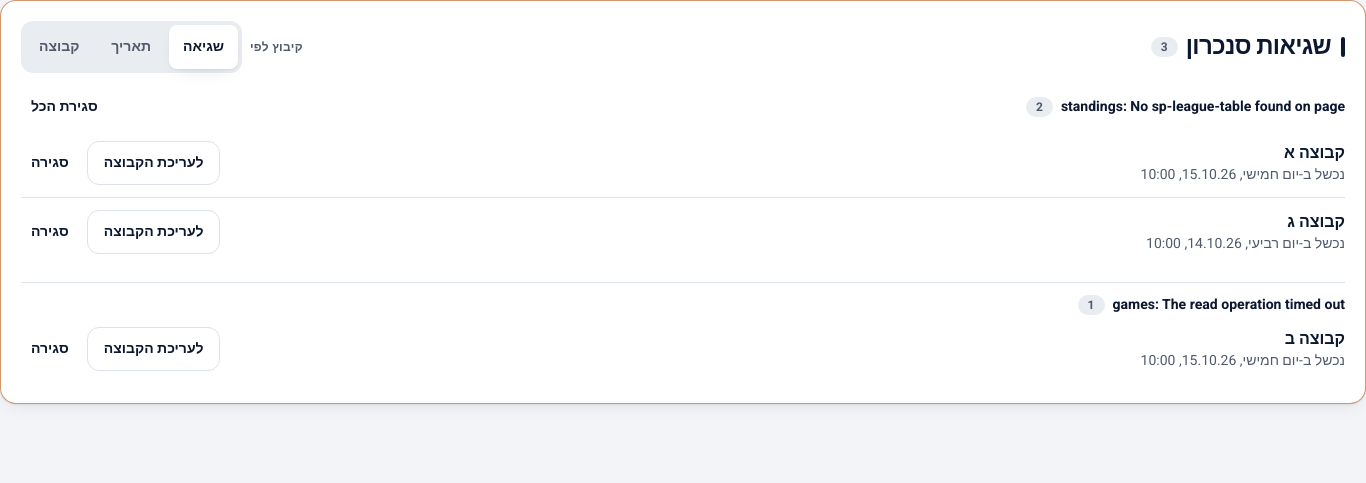
Scenario: SyncFailures › grouping › switching to date groups rows by calendar day
The width and height of the screenshot is (1366, 483).
Click the button with class "segmented-item" showing "תאריך" at (131, 47), box [97,25,165,69]
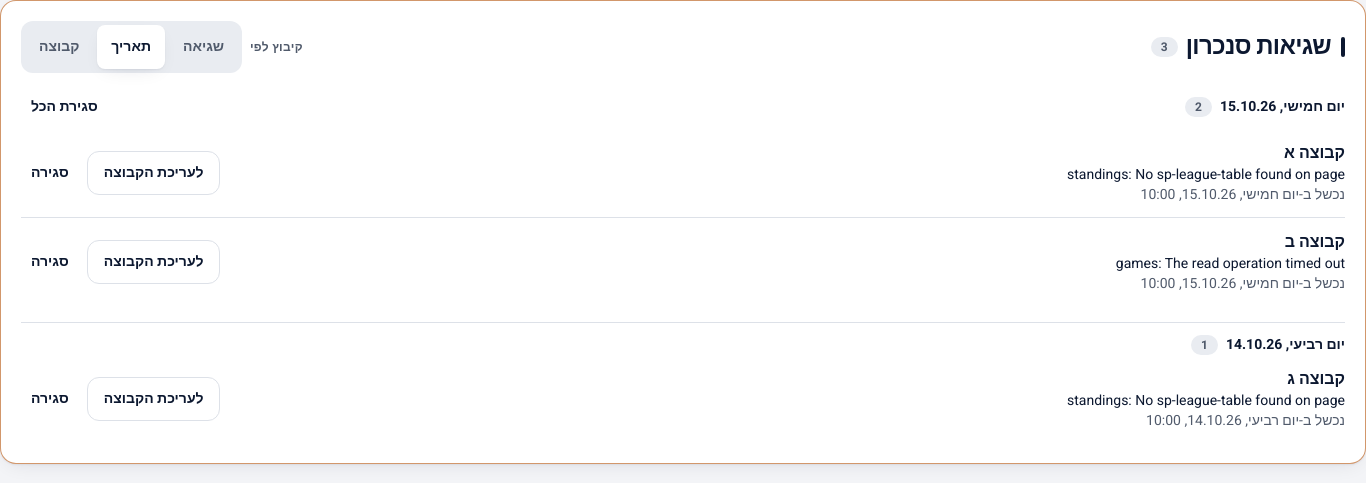
Result: the element with test id "failure-group" shows "קבוצה ב" at [1285,230,1345,254]
Result: the element with test id "failure-group" shows "קבוצה ג" at [1287,367,1345,391]
Result: the element with test id "failure-group" shows "games: The read operation timed out" at [1116,253,1345,274]
